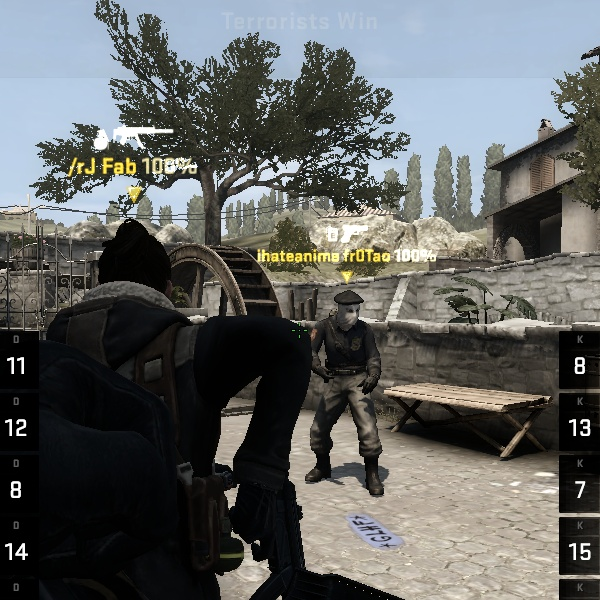t_body: (290, 287, 395, 497)
t_head: (320, 284, 372, 337)
